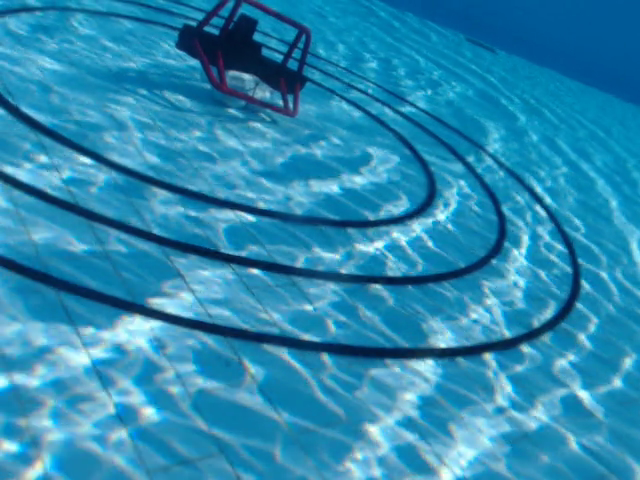submarine: (171, 1, 315, 121)
